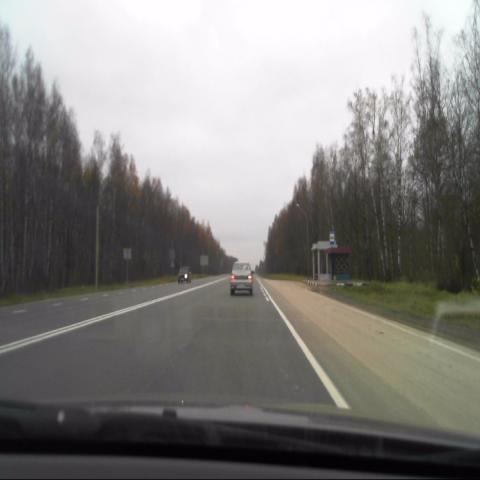5_16: (328, 230, 336, 243)
